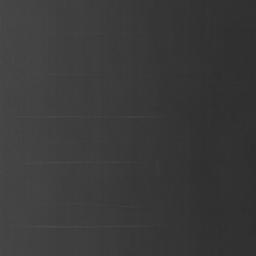Waist folding: (37, 224, 140, 229), (48, 160, 121, 165), (126, 115, 145, 120), (48, 115, 63, 119)
